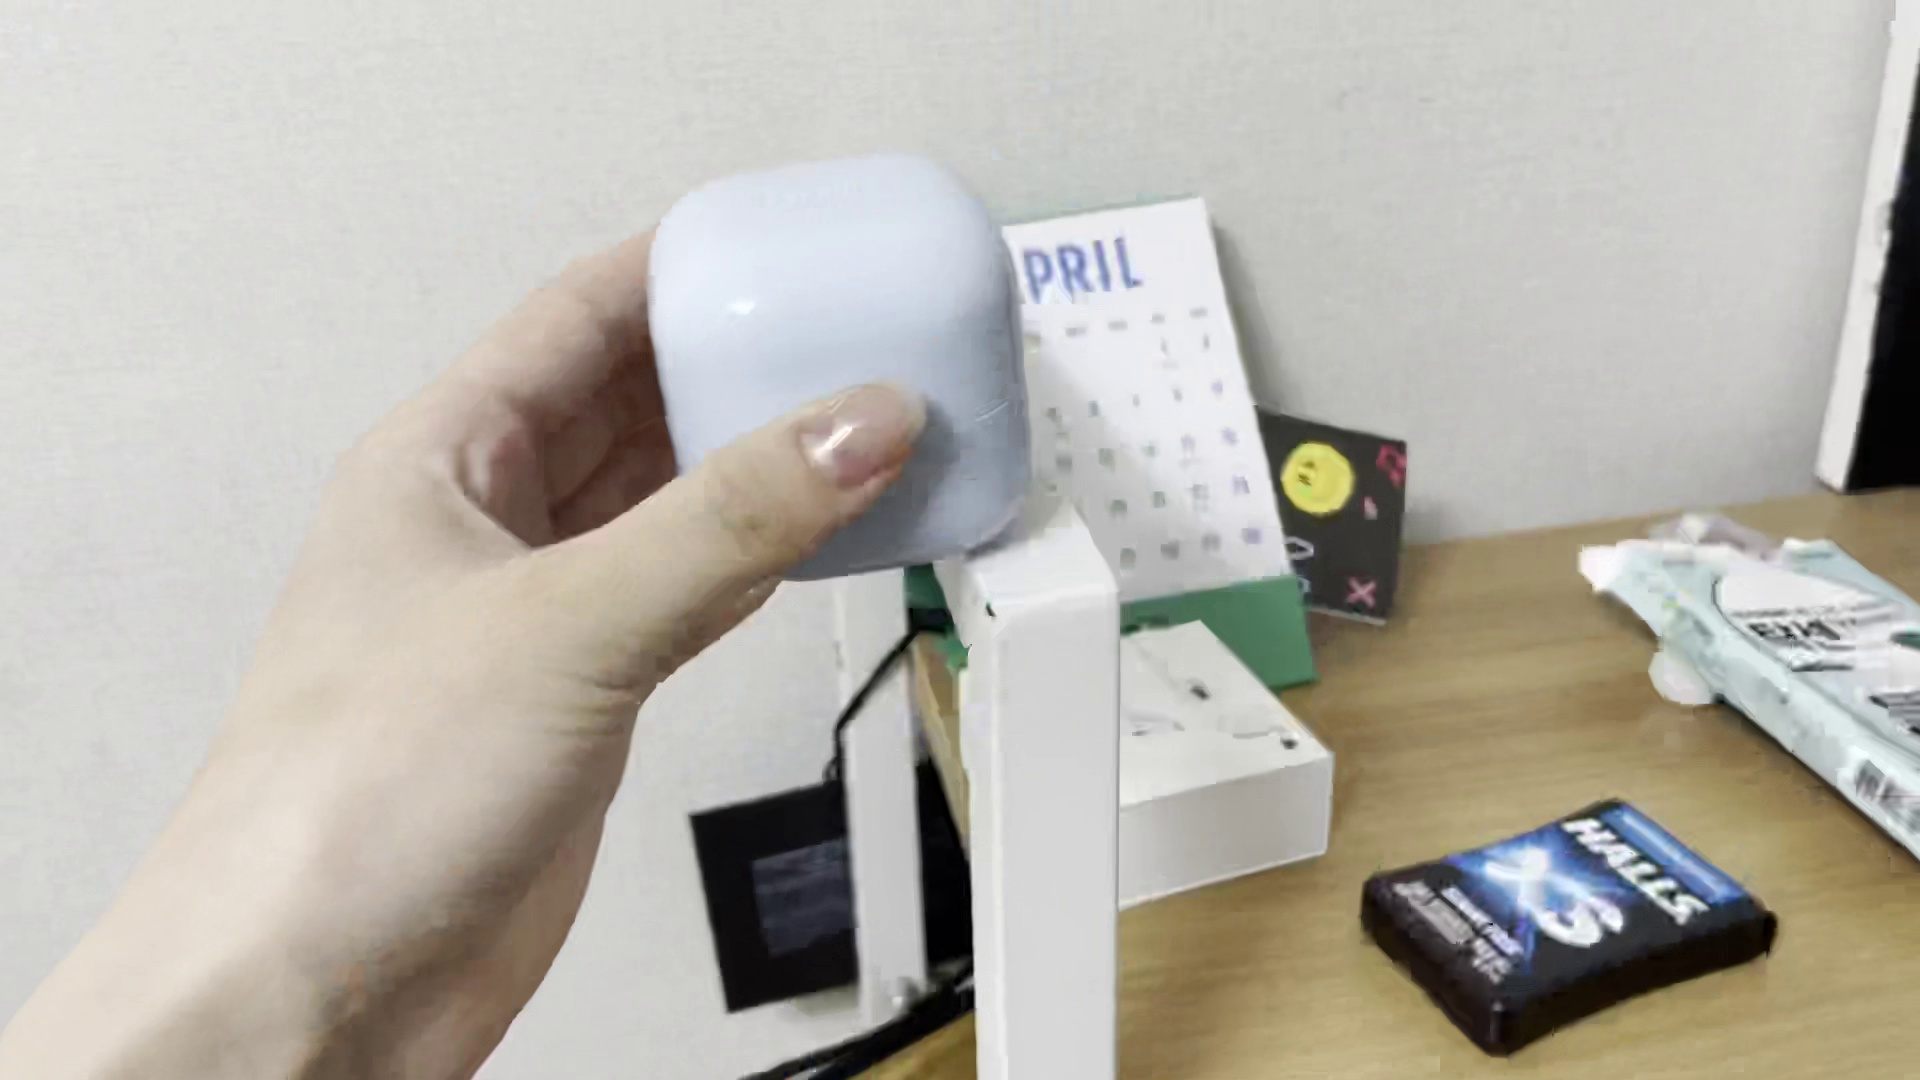cream: (647, 154, 1038, 580)
